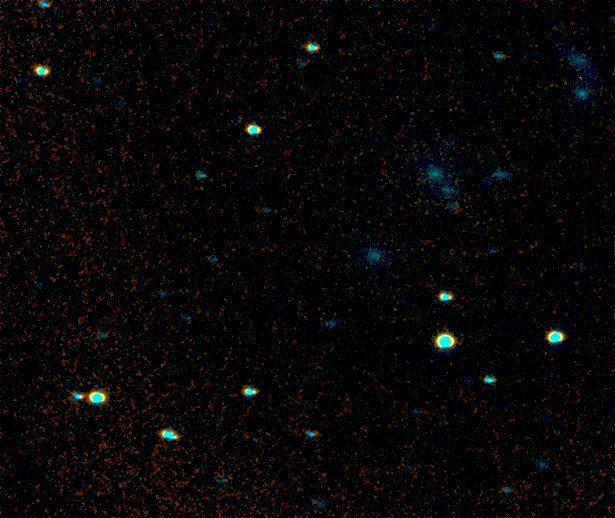star: (471, 167, 501, 197)
